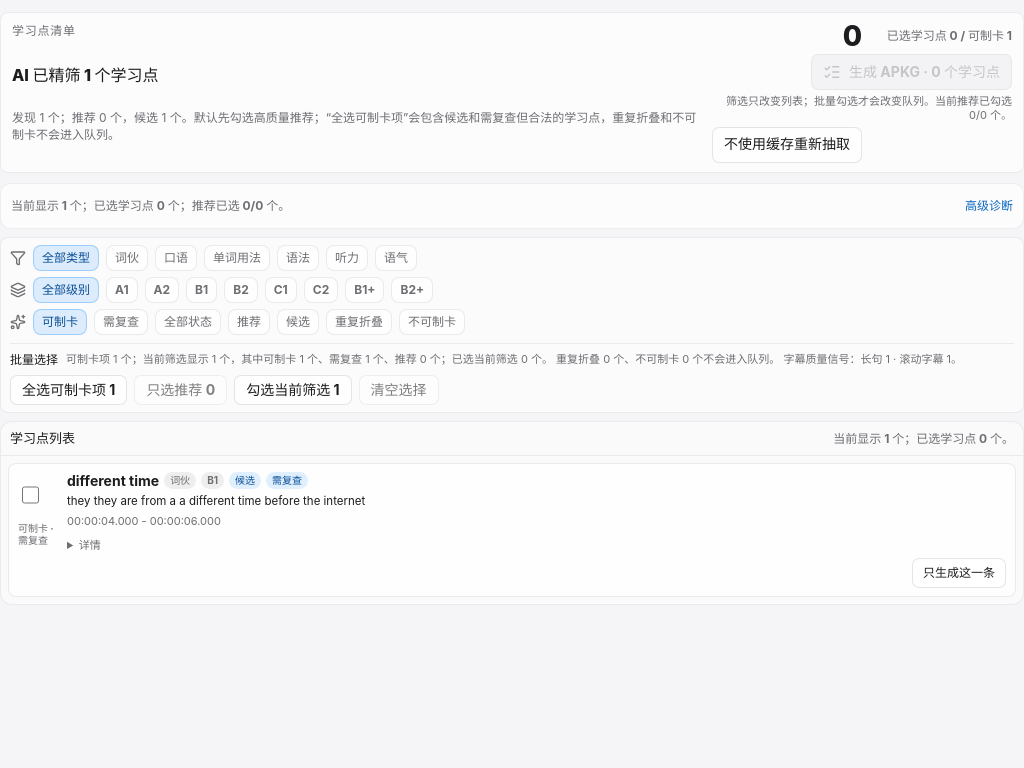
Test: LearningPointOverview › keeps source-review legal learning points visible as cardable items
The width and height of the screenshot is (1024, 768).
Expected: the text "可制卡项 1 个" is shown, [66, 352, 962, 367]
Expected: the text "字幕质量信号：长句 1 · 滚动字幕 1" is shown, [780, 352, 962, 366]
Click the button "全选可制卡项 1" at point(69, 390), box [10, 375, 127, 405]
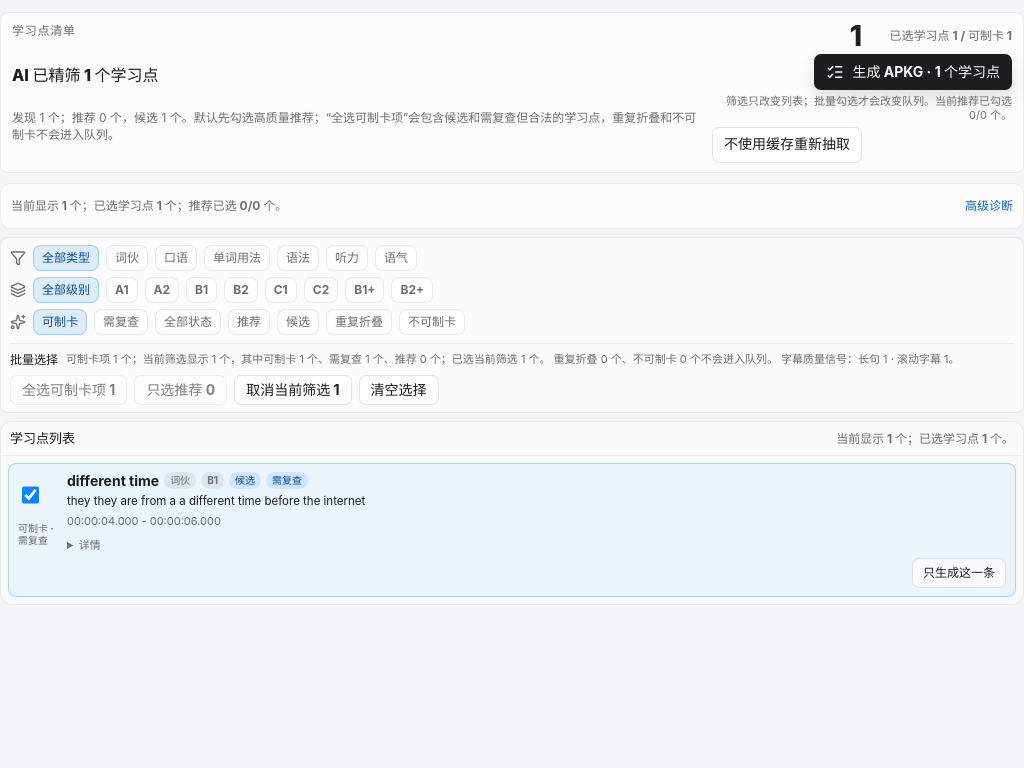
Result: the button "生成 APKG · 1 个学习点" is enabled at [814, 54, 1012, 90]
